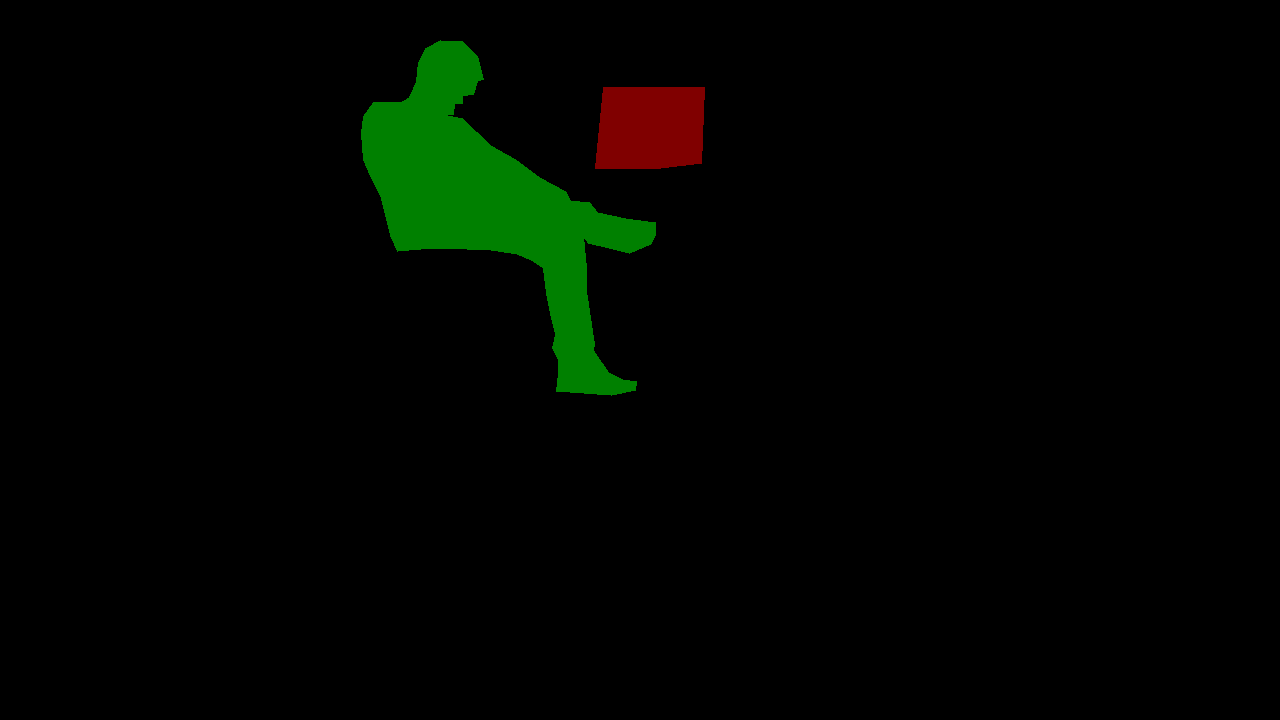person: (361, 40, 655, 395)
tvmonitor: (595, 87, 704, 168)
